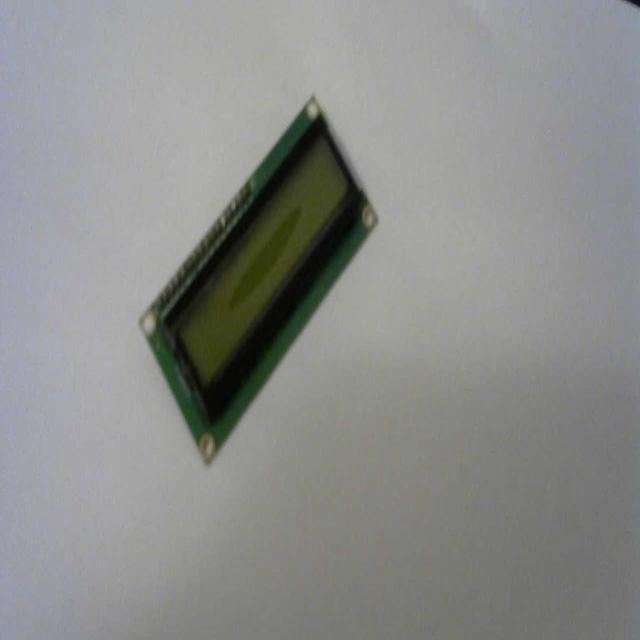lcd: (137, 92, 379, 466)
